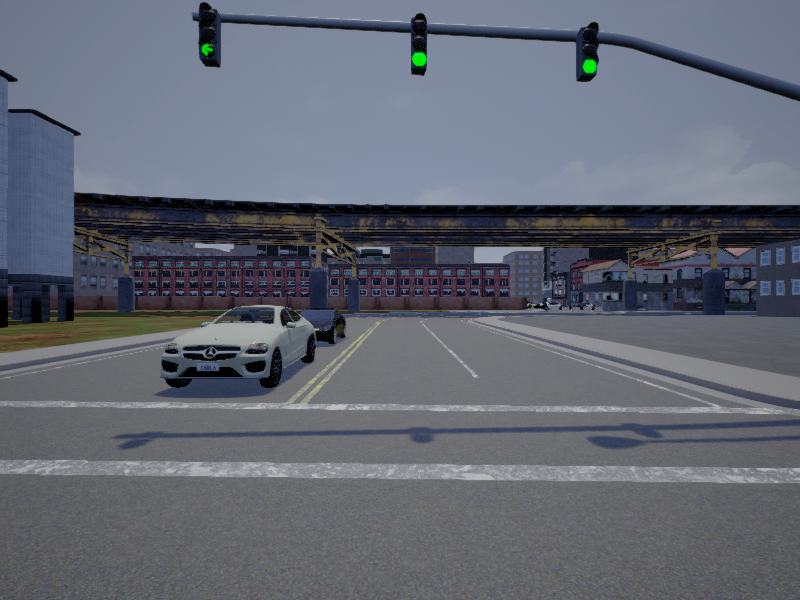Benign: (160, 304, 318, 387), (303, 308, 346, 345)
